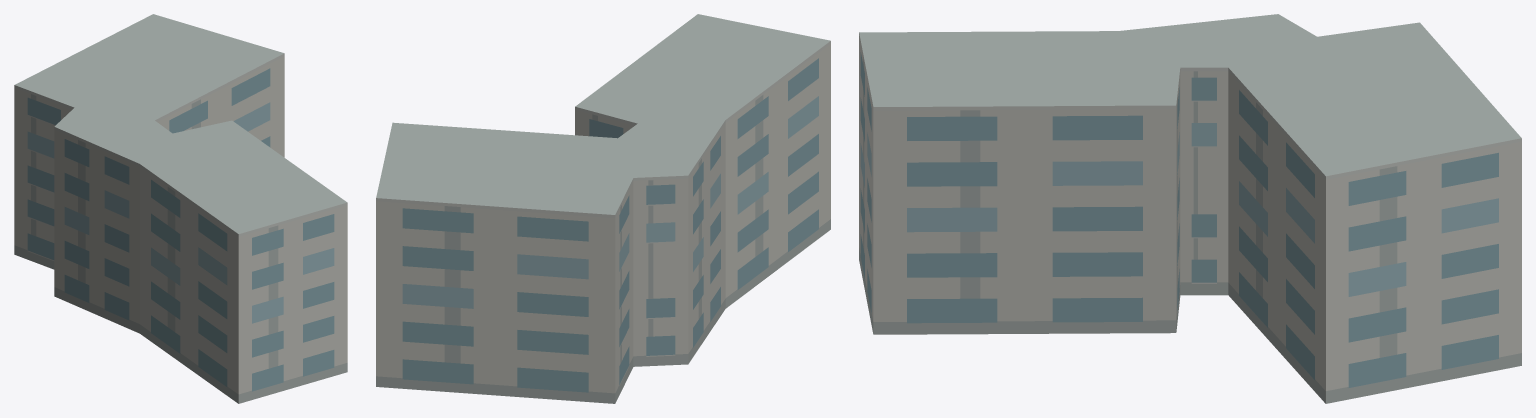
Rendered from residential-b44154f6-af65-458c-bfe5-25f24b4fe952.glb.
3 views of the same model, side by side, from view 1: azimuth 30°, elevation 25°; view 2: azimuth 150°, elevation 25°; view 3: azimuth 270°, elevation 25° (orthographic). The views are drawn at different scales.
Visible parts, largest first — view 1: residential-b44154f6-af65-458c-bfe5-25f24b4fe952.tmp; view 2: residential-b44154f6-af65-458c-bfe5-25f24b4fe952.tmp; view 3: residential-b44154f6-af65-458c-bfe5-25f24b4fe952.tmp.
Boxes of the visible parts, x1,y1,x2,y2 form: residential-b44154f6-af65-458c-bfe5-25f24b4fe952.tmp: (14,14,347,403); residential-b44154f6-af65-458c-bfe5-25f24b4fe952.tmp: (376,14,830,403); residential-b44154f6-af65-458c-bfe5-25f24b4fe952.tmp: (859,14,1521,403).
Bounding box in the file's own units: 23.34 × 15.25 × 40.25.
